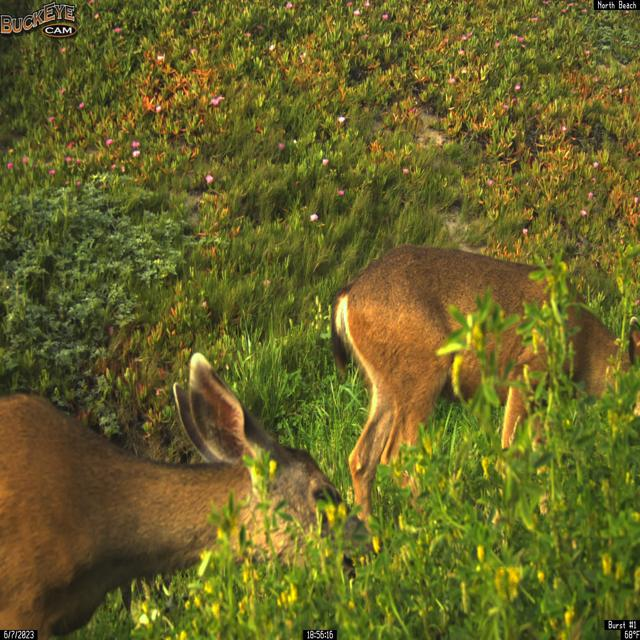deer: (0, 351, 379, 639)
